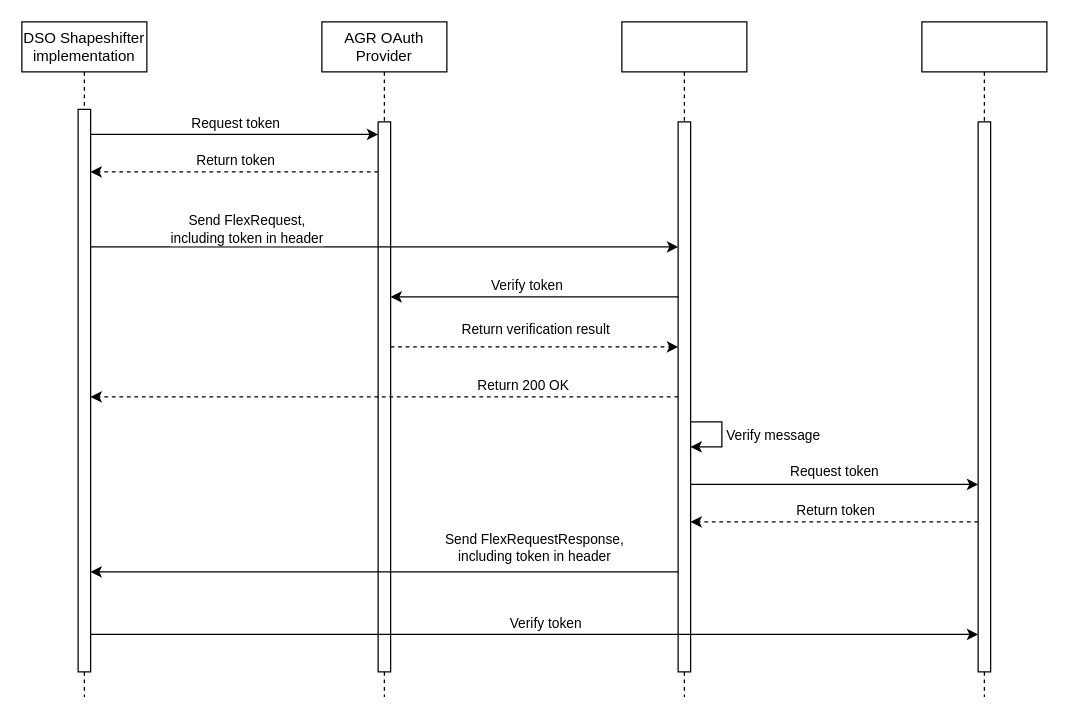
The diagram is 1069 pixels wide and 719 high, and some of its shapes have lost their labels. The box of each missing label's shape, as (x1, y1, x2, y2) in pixels:
AGR Shapeshifter implementation: (621, 21, 747, 697)
DSO OAuth Provider: (921, 21, 1047, 697)
